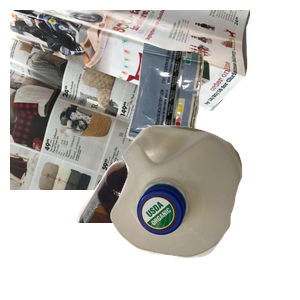glass: (74, 120, 244, 300)
paper: (10, 10, 250, 190)
plastic: (108, 123, 300, 300)
trash: (124, 40, 300, 188)
